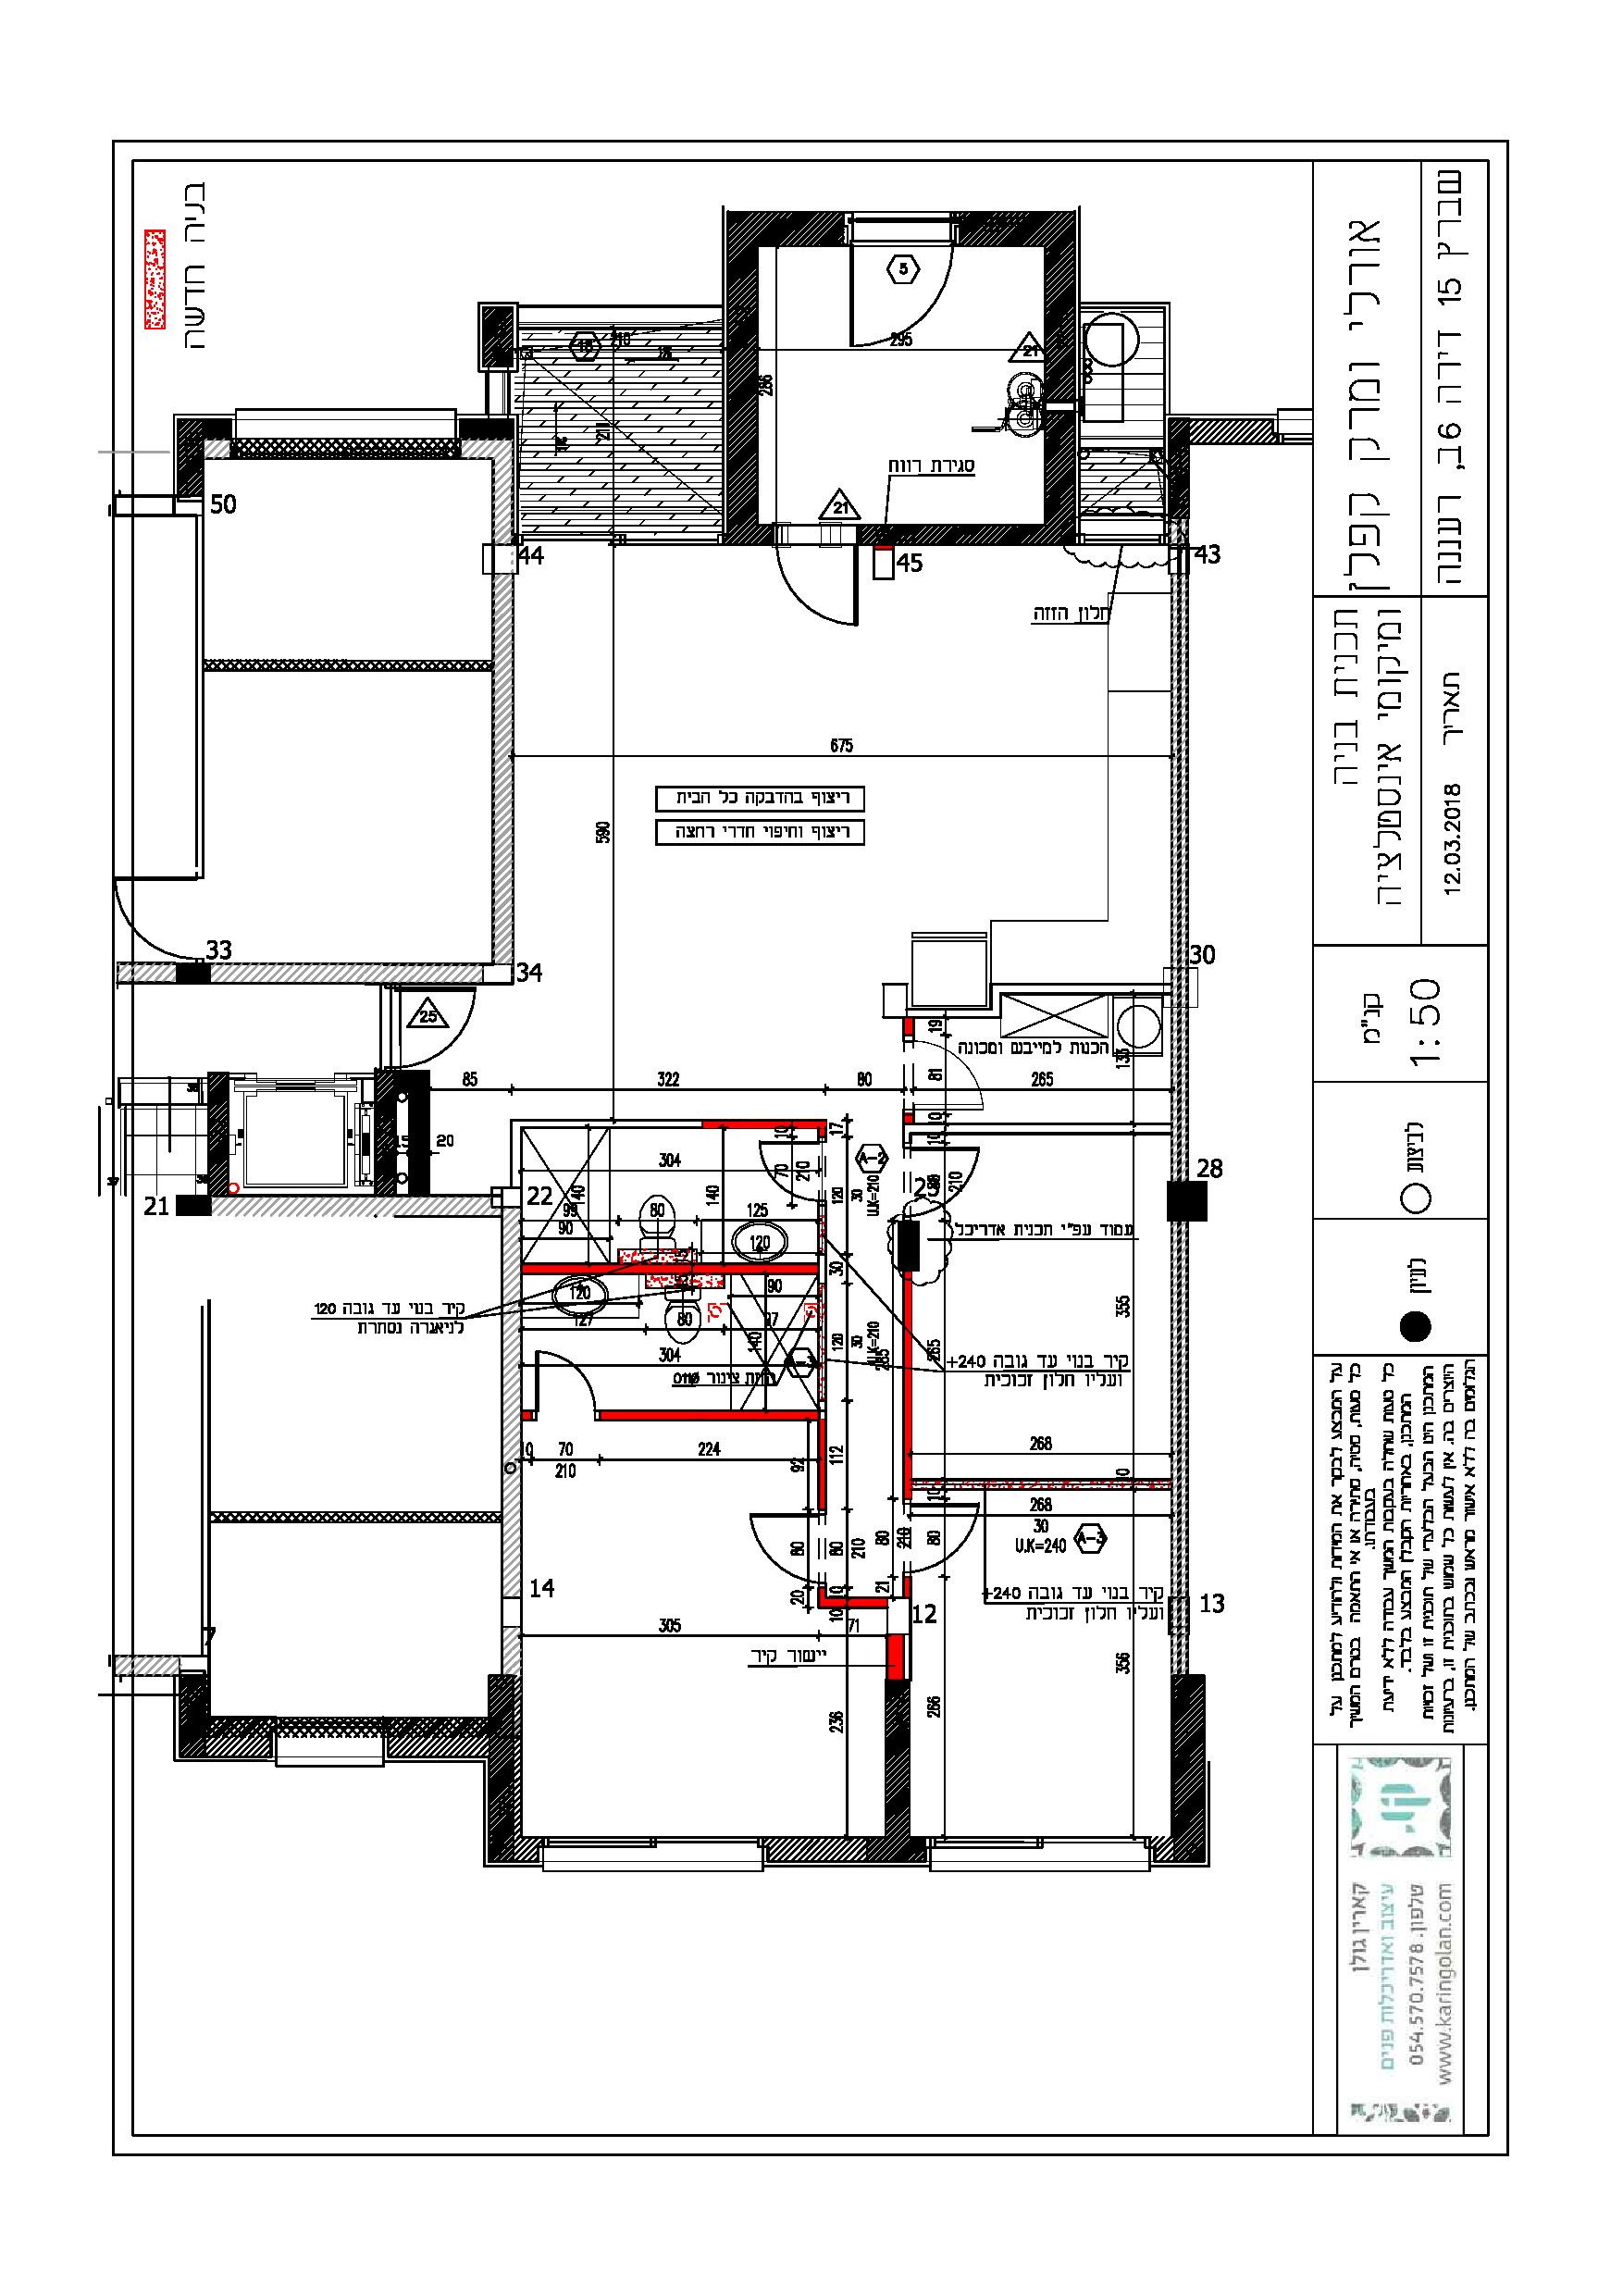door: (836, 276, 959, 348), (769, 557, 868, 641), (100, 871, 184, 961), (738, 1502, 813, 1590), (919, 1507, 982, 1576), (529, 1346, 602, 1402)
wall: (727, 214, 759, 543), (494, 576, 511, 961), (1172, 1679, 1203, 1860), (213, 963, 480, 984), (1047, 213, 1075, 401), (490, 1679, 515, 1867), (232, 437, 460, 457), (1047, 413, 1075, 543), (887, 1679, 906, 1860), (214, 1511, 485, 1523), (869, 527, 1038, 543), (211, 1075, 230, 1188), (177, 422, 204, 497), (1189, 420, 1275, 443), (411, 1073, 427, 1196), (599, 1411, 806, 1419), (724, 1119, 790, 1128), (727, 1267, 817, 1272), (636, 1265, 685, 1274)
window: (927, 1829, 1151, 1888), (543, 1822, 764, 1880), (1077, 522, 1166, 552)
